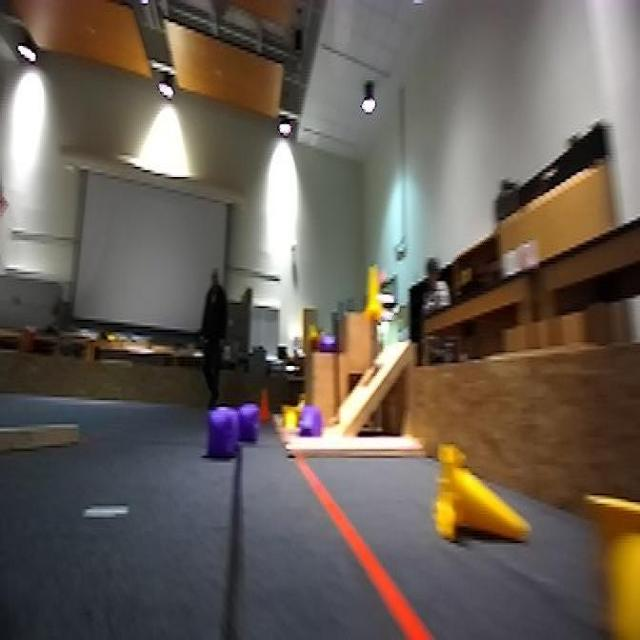frc_cone: (440, 446, 518, 543), (597, 498, 640, 640), (364, 262, 385, 317), (278, 407, 298, 427)
frc_cube: (207, 412, 239, 459), (239, 403, 260, 441), (298, 402, 318, 434), (321, 330, 338, 354)
